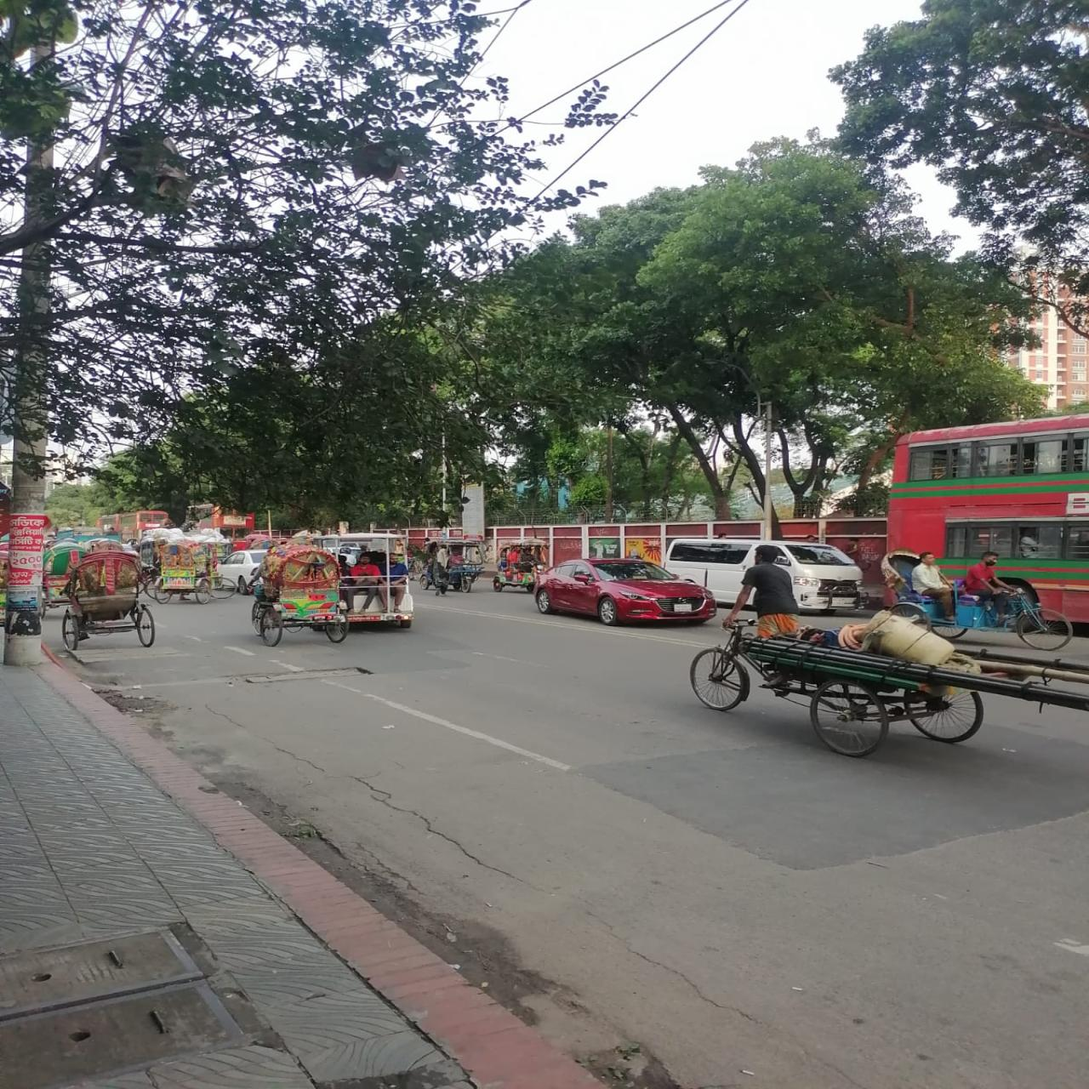person: (433, 543, 450, 600)
